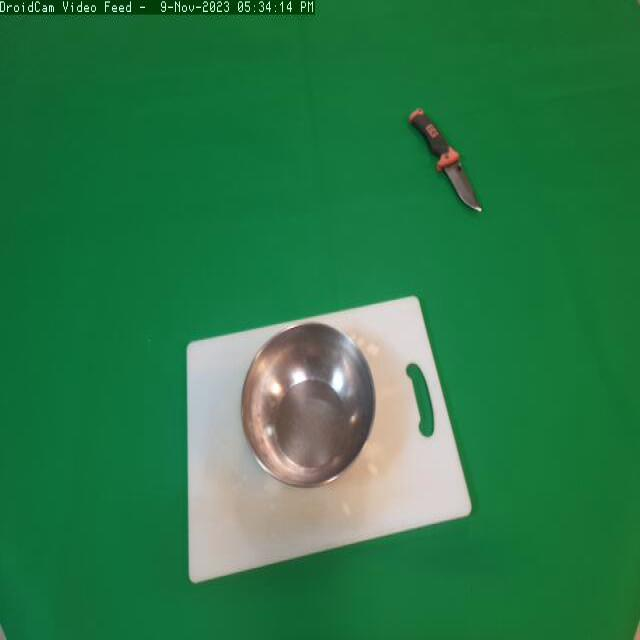bowl: (235, 319, 377, 494)
cutting board: (170, 293, 478, 596)
knife: (405, 104, 494, 233)
